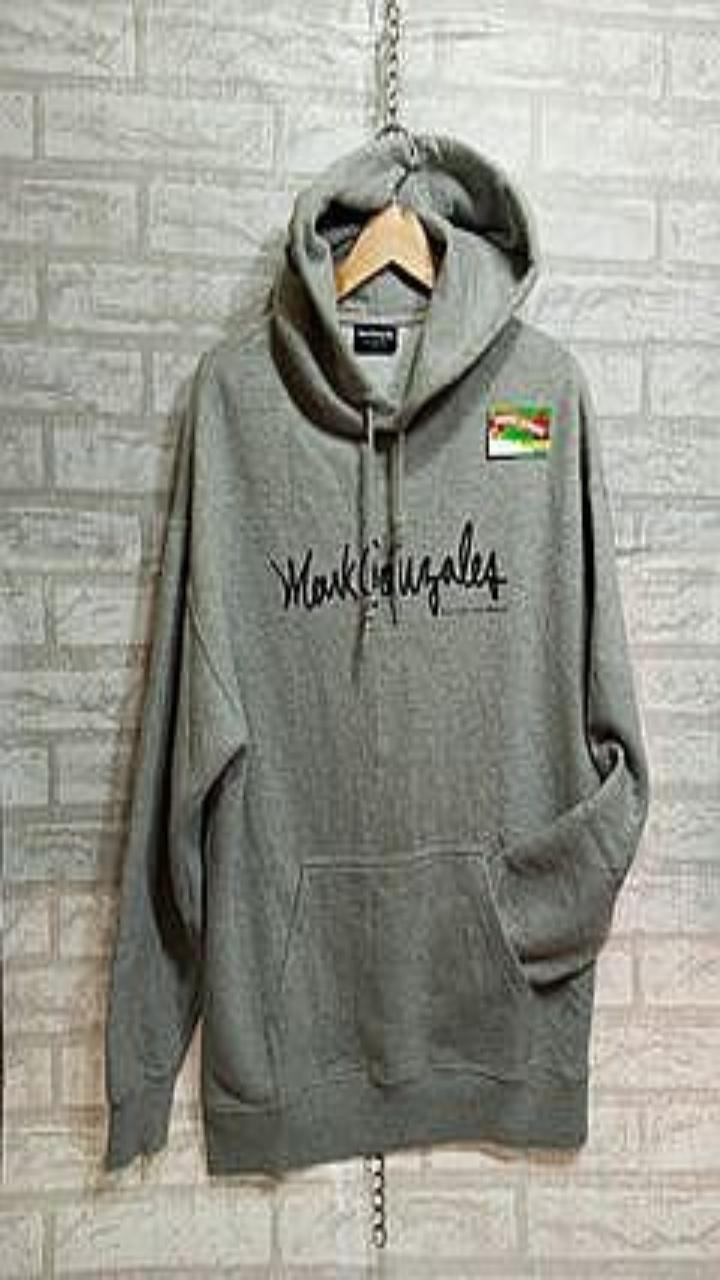Hoodie: (105, 132, 648, 1172)
